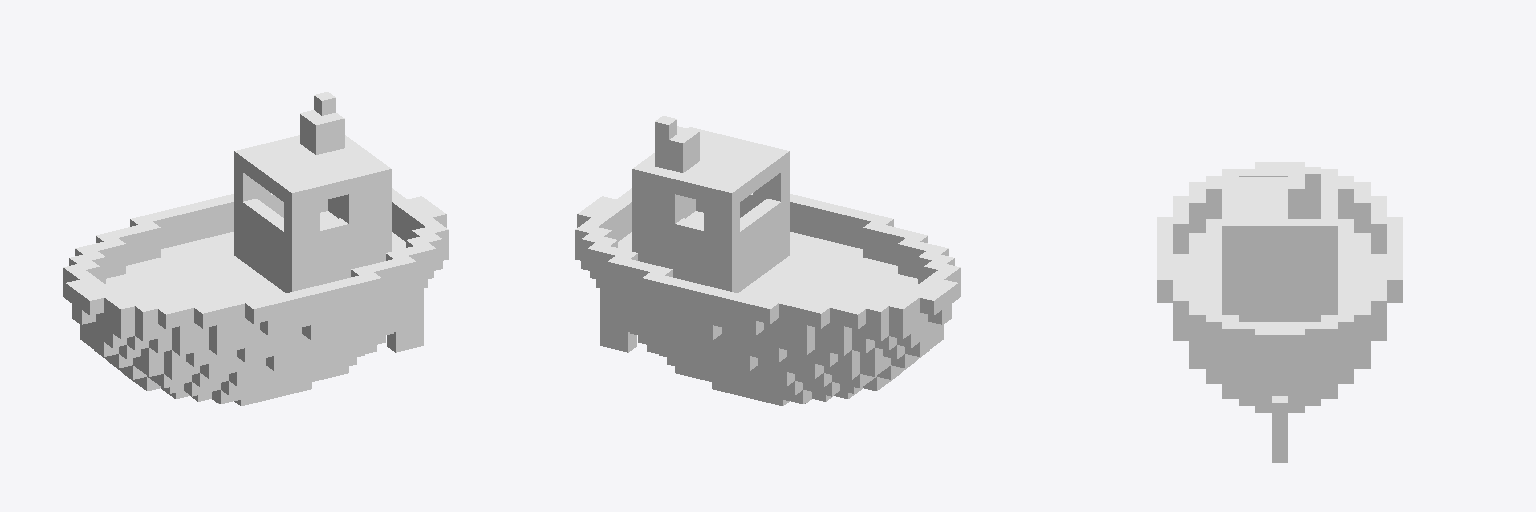
Rendered from Boat.obj.
3 views of the same model, side by side, from view 1: azimuth 30°, elevation 25°; view 2: azimuth 150°, elevation 25°; view 3: azimuth 270°, elevation 25° (orthographic).
Parts seen in each view (by area): view 1: object 1; view 2: object 1; view 3: object 1.
Boxes of the visible parts, x1,y1,x2,y2 form: object 1: [63, 92, 448, 405]; object 1: [575, 116, 960, 405]; object 1: [1157, 162, 1402, 462].
Bounding box in the file's own units: 2.5 × 1.7 × 1.5.